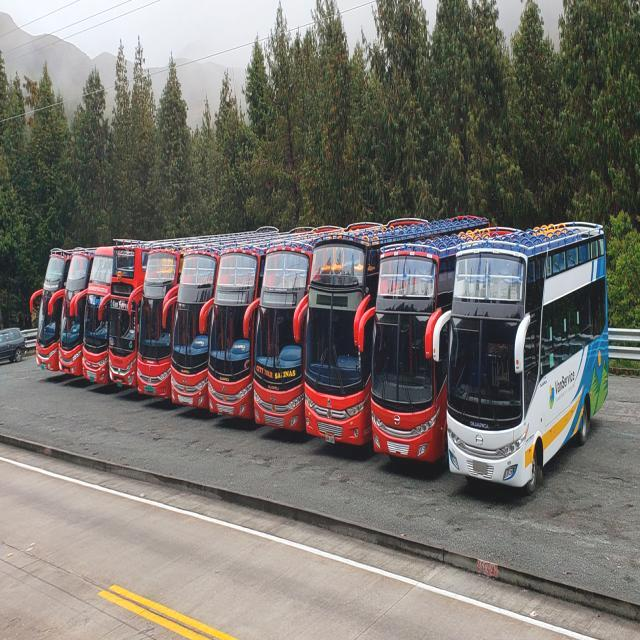BUS: (448, 222, 612, 497), (372, 243, 458, 488), (300, 231, 370, 467), (250, 237, 309, 457), (206, 240, 258, 434), (170, 235, 217, 428), (133, 237, 178, 417), (109, 235, 142, 401), (80, 236, 111, 394), (38, 242, 66, 381), (61, 242, 86, 389)
